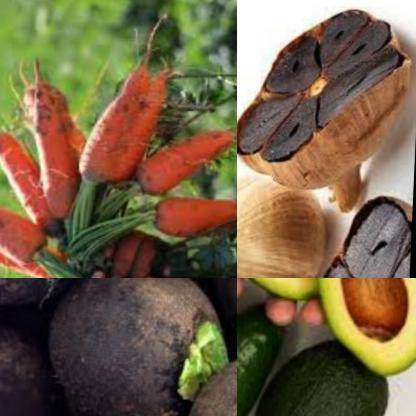avocado: (247, 340, 399, 416), (308, 278, 416, 384), (237, 311, 297, 416)
carrot: (71, 52, 170, 194), (16, 75, 89, 221), (127, 124, 237, 194), (0, 118, 48, 236), (141, 188, 237, 245), (0, 175, 51, 273)
garlic: (237, 9, 401, 222), (237, 160, 324, 278), (303, 190, 412, 278)
redka: (43, 278, 237, 416), (0, 322, 66, 416), (183, 349, 237, 416)
